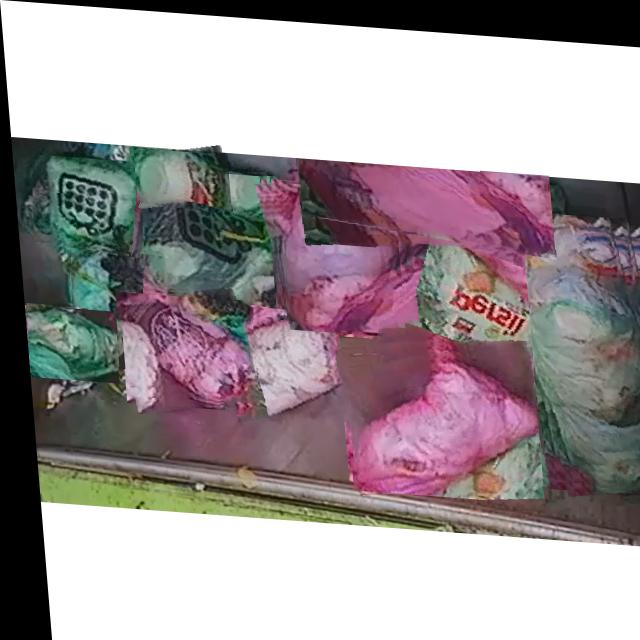general_trashbag: (521, 207, 640, 480), (365, 215, 542, 387), (125, 161, 276, 293), (29, 156, 138, 246), (66, 247, 163, 346), (20, 307, 116, 379), (133, 147, 226, 202)
other_trashbag: (344, 343, 531, 489), (297, 155, 550, 245), (280, 178, 394, 326), (109, 292, 250, 399), (217, 307, 336, 412)
